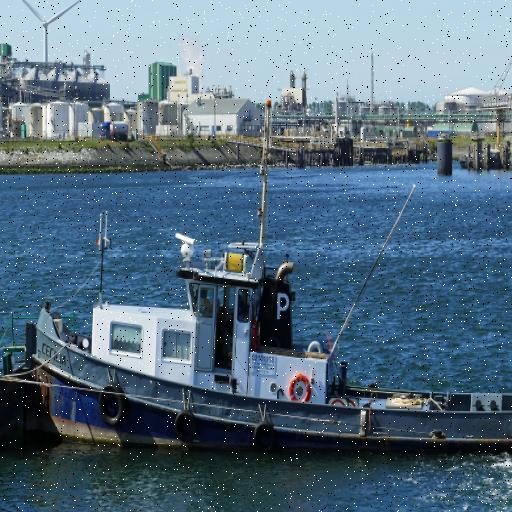tugboat: (25, 98, 512, 472)
